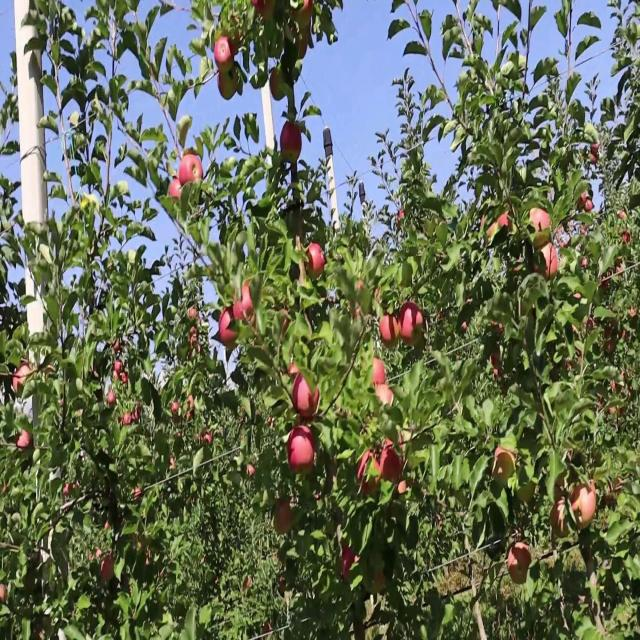apple: (288, 426, 316, 475), (572, 483, 597, 528), (380, 440, 405, 484), (280, 120, 304, 164), (296, 376, 320, 420), (400, 305, 424, 345), (508, 547, 532, 585), (360, 455, 382, 496), (528, 213, 552, 249), (492, 447, 516, 480), (540, 241, 560, 279), (180, 156, 204, 185), (220, 312, 238, 350), (236, 284, 255, 320), (232, 291, 255, 320), (380, 312, 398, 348), (308, 241, 326, 277), (216, 35, 235, 69), (604, 476, 624, 507), (252, 0, 276, 23), (220, 71, 239, 100), (344, 547, 360, 581), (16, 362, 32, 395), (276, 504, 292, 535), (292, 7, 315, 28), (552, 504, 567, 535), (376, 383, 395, 405), (272, 71, 286, 100), (300, 1, 315, 27), (372, 362, 388, 386), (296, 35, 310, 62), (284, 362, 300, 384), (104, 554, 116, 583), (492, 348, 503, 379), (376, 568, 388, 596), (192, 327, 202, 356), (496, 213, 512, 231), (172, 177, 184, 199), (116, 362, 128, 384), (20, 433, 32, 450), (592, 142, 601, 164), (580, 199, 594, 213), (200, 433, 212, 448), (492, 319, 504, 334), (116, 362, 125, 382), (188, 398, 196, 420), (396, 483, 409, 496), (0, 583, 7, 603), (108, 391, 116, 405), (172, 405, 180, 418), (96, 547, 104, 560), (136, 490, 143, 498), (248, 469, 256, 476), (104, 526, 108, 533)
